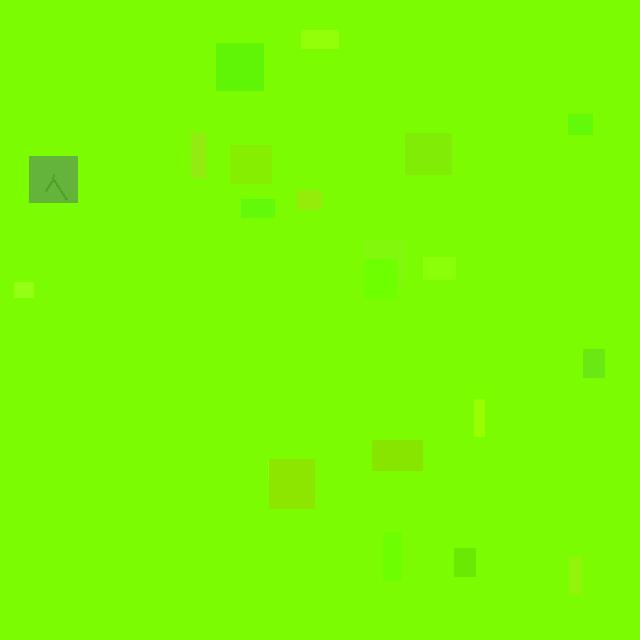weed: (28, 155, 77, 202)
